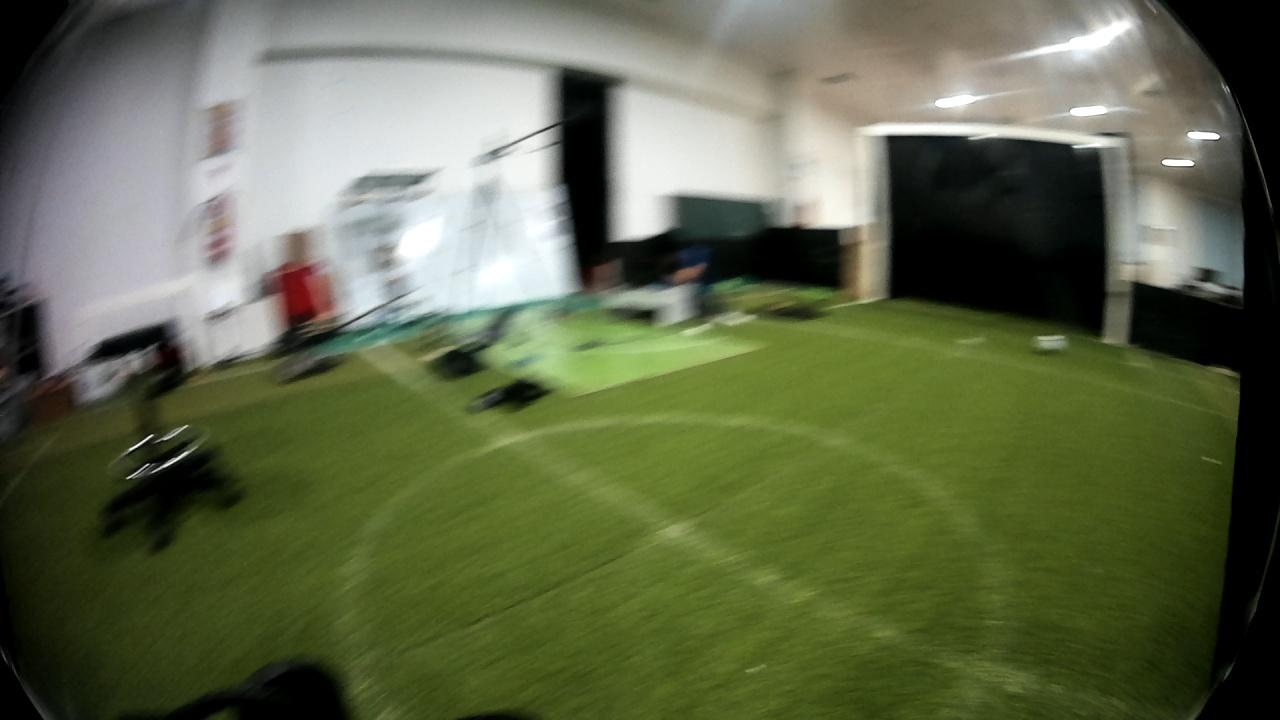ball: (1031, 331, 1070, 359)
